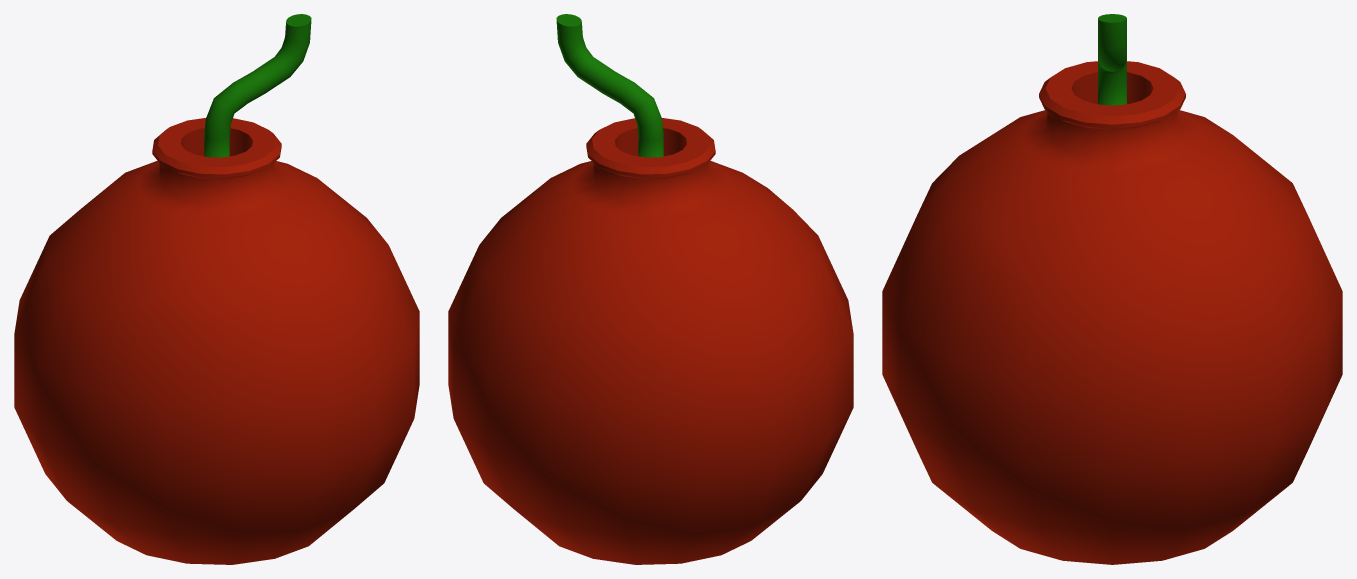
File: Bomba.FBX
3 views of the same model, side by side, from view 1: azimuth 30°, elevation 25°; view 2: azimuth 150°, elevation 25°; view 3: azimuth 270°, elevation 25° (orthographic). The views are drawn at different scales.
Visible parts, largest first — view 1: Bomba; view 2: Bomba; view 3: Bomba.
Boxes of the visible parts, bbox=[...] form: Bomba: bbox=[14, 14, 419, 564]; Bomba: bbox=[448, 14, 853, 564]; Bomba: bbox=[882, 14, 1342, 564].
Size of the model in its own units: 32.19 by 44.28 by 32.19.
